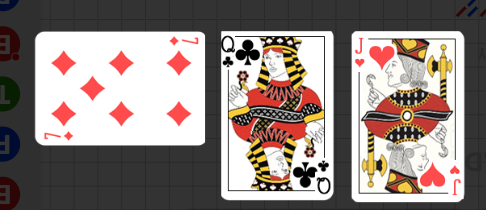7D: (167, 34, 200, 47), (43, 130, 75, 142)
JH: (353, 36, 366, 69)
QC: (223, 31, 267, 78), (290, 152, 334, 198)
